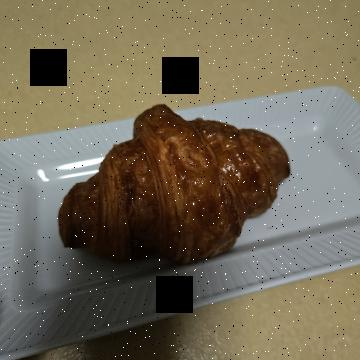croissant: (100, 52, 284, 300)
